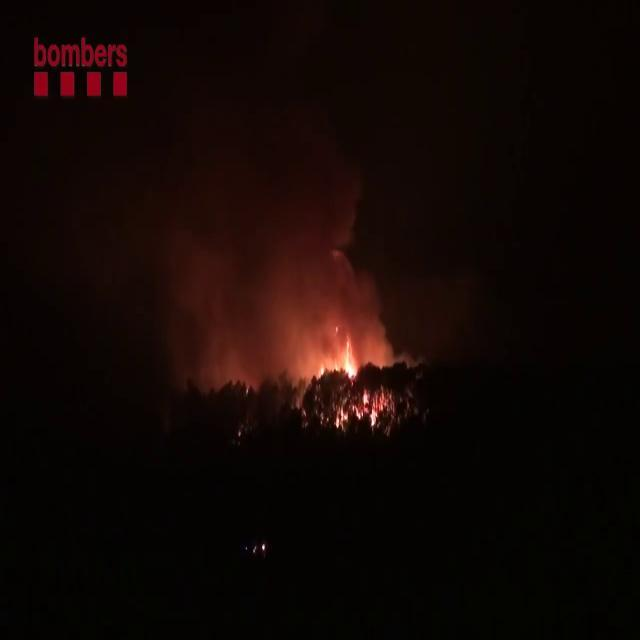Fire: (314, 329, 364, 394)
Smoke: (116, 35, 392, 393)
